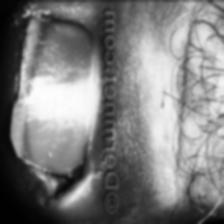Toxin: (6, 0, 103, 224), (118, 60, 168, 224)
